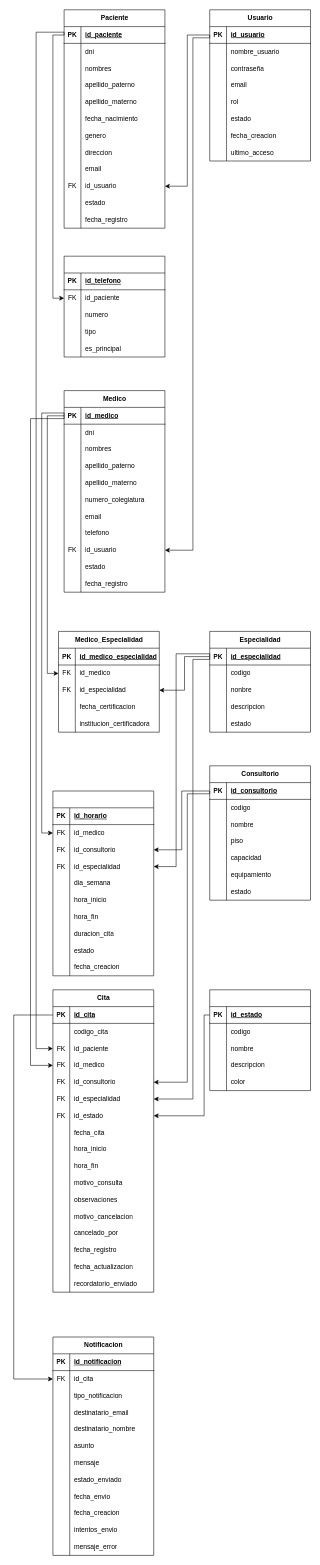
Some shapes in this 320 by 1565 pixel diagram are drawn without their labels. The box of each missing label's shape, as (x1, y1, x2, y2) in pixels:
Estado_Cita: (209, 989, 311, 1091)
Horario_Atencion: (52, 790, 154, 976)
Paciente_Telefono: (64, 256, 165, 357)
